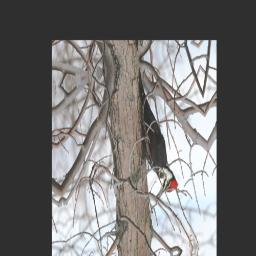Woodpecker: (133, 56, 179, 205)
